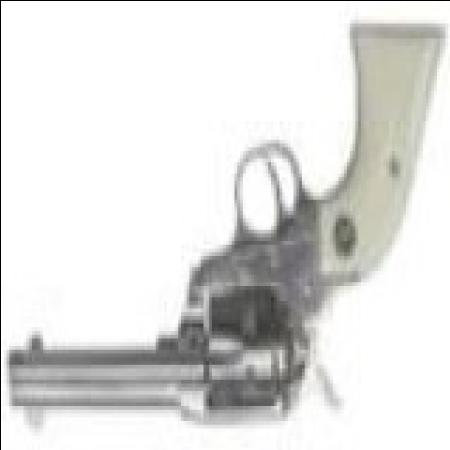Pistol: (11, 30, 441, 431)
